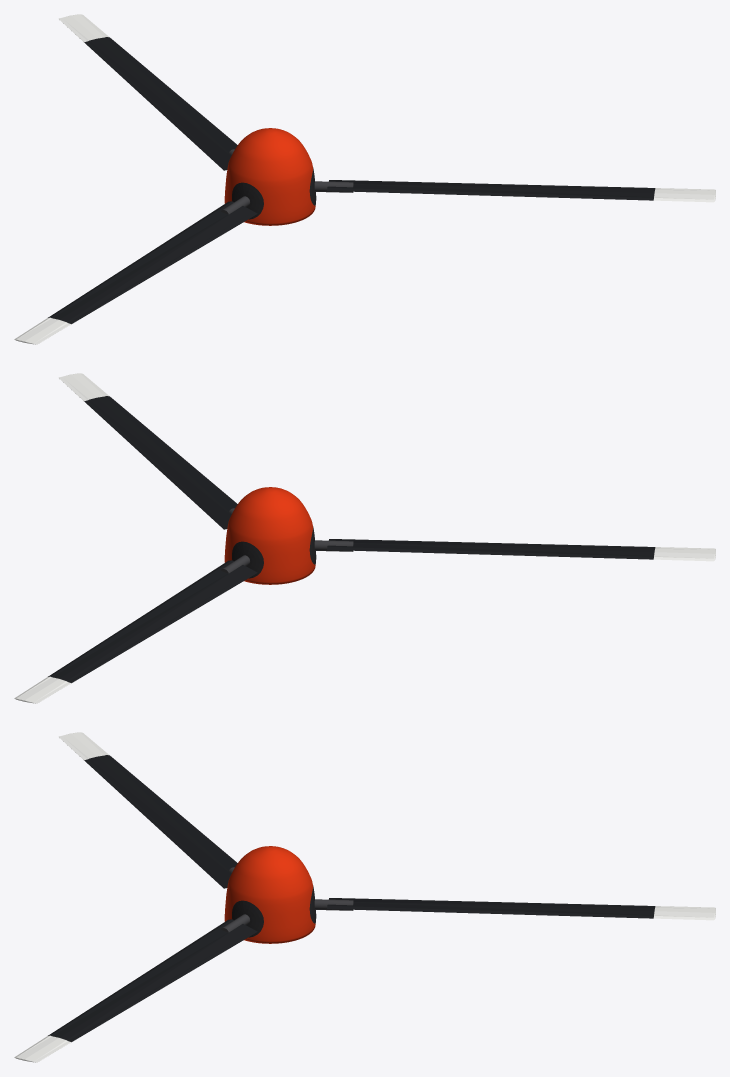
Rendered from rotor_2.glb.
3 renders of one model, top to bottom at view 1: azimuth 30°, elevation 25°; view 2: azimuth 150°, elevation 25°; view 3: azimuth 270°, elevation 25°, orthographic.
Parts seen in each view (by area): view 1: rotor_2; view 2: rotor_2; view 3: rotor_2.
Boxes of the visible parts, <box> form: rotor_2: <box>14,14,715,344</box>; rotor_2: <box>14,373,715,703</box>; rotor_2: <box>14,732,715,1062</box>.
Bounding box in the file's own units: 4.97 × 0.5303 × 4.45.
